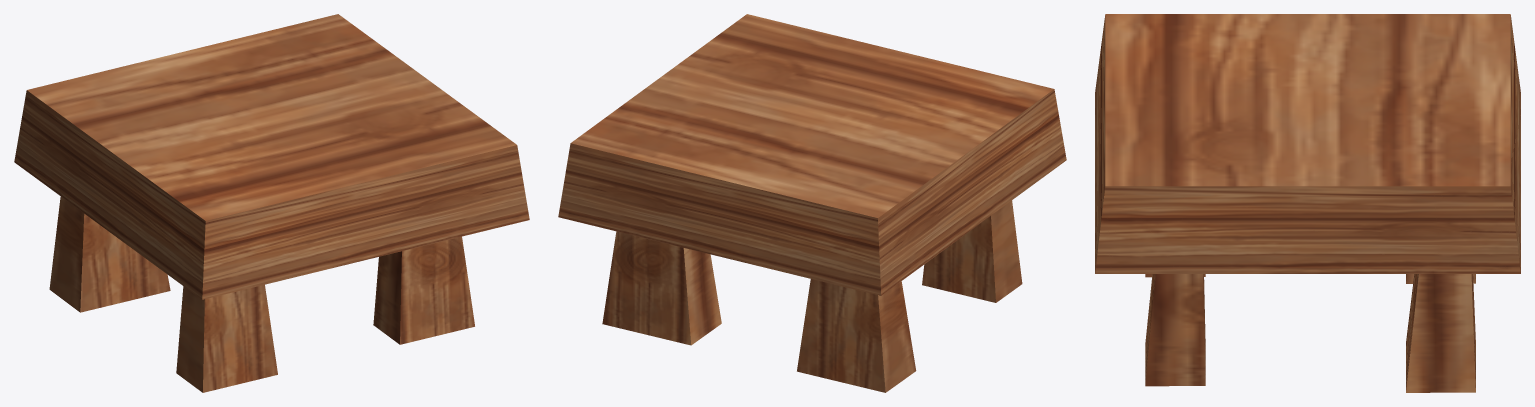
Rendered from taboret.glb.
3 renders of one model, left to right at view 1: azimuth 30°, elevation 25°; view 2: azimuth 150°, elevation 25°; view 3: azimuth 270°, elevation 25°, orthographic. The views are drawn at different scales.
Visible parts, largest first — view 1: Cube, nogi, nogi.001; view 2: Cube, nogi, nogi.001; view 3: Cube, nogi.001.
Part boxes in pixels (<box>): Cube: <box>14,14,529,299</box>; nogi: <box>49,196,277,392</box>; nogi.001: <box>373,236,474,344</box>; Cube: <box>558,14,1066,295</box>; nogi: <box>797,200,1022,392</box>; nogi.001: <box>602,231,721,345</box>; Cube: <box>1095,14,1520,273</box>; nogi.001: <box>1145,274,1475,392</box>.
Size of the model in its own units: 2 by 1.11 by 1.99.
1 material, 1 textured.
